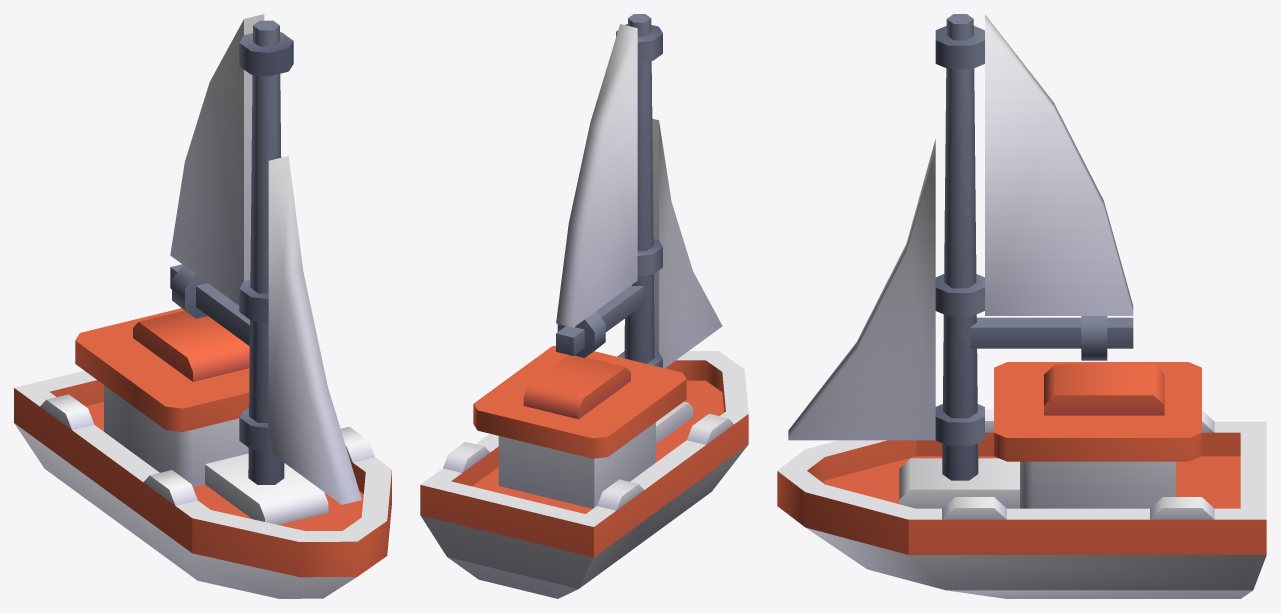
File: boat_sail_a.glb
3 views of the same model, side by side, from view 1: azimuth 30°, elevation 25°; view 2: azimuth 150°, elevation 25°; view 3: azimuth 270°, elevation 25° (orthographic). The views are drawn at different scales.
Parts seen in each view (by area): view 1: boat-sail-a; view 2: boat-sail-a; view 3: boat-sail-a.
Part boxes in pixels (box(x1,y1,x2,y2)): boat-sail-a: box(14, 14, 391, 598); boat-sail-a: box(420, 14, 748, 598); boat-sail-a: box(777, 14, 1266, 598).
Size of the model in its own units: 1.78 by 4.74 by 3.77.
Materials: 1 (1 with a texture image).
